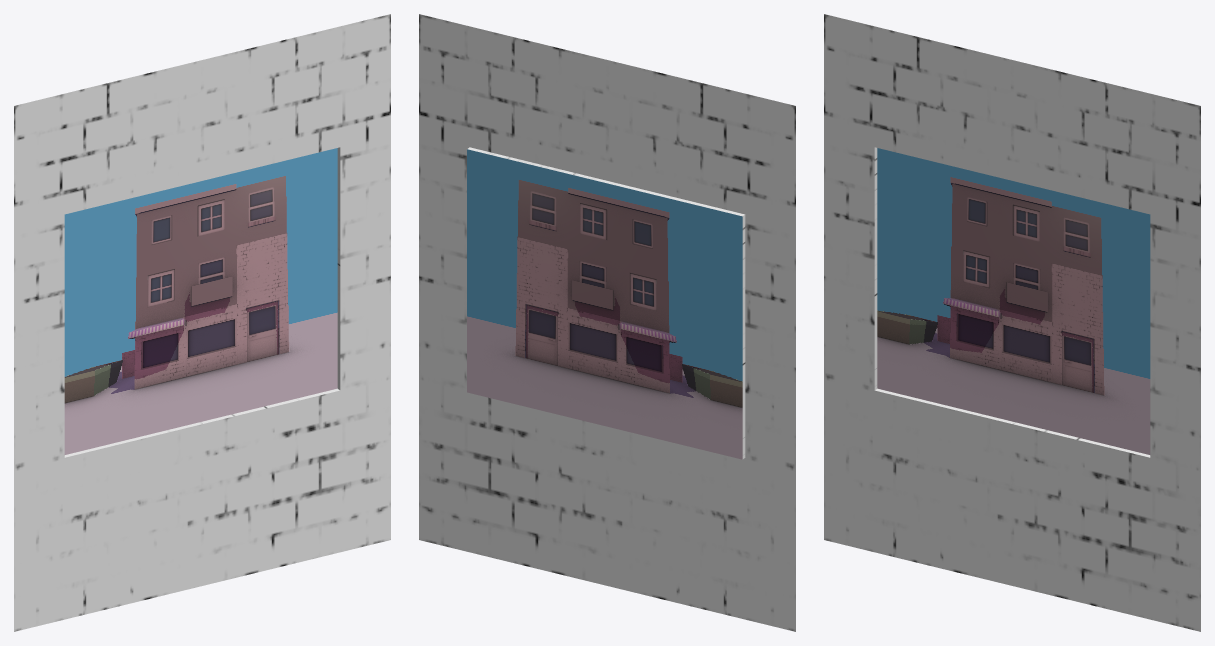
File: Window4.fbx
The picture shows the model from 3 angles, left to right: view 1: azimuth 30°, elevation 25°; view 2: azimuth 150°, elevation 25°; view 3: azimuth 330°, elevation 25°; orthographic projection.
Parts seen in each view (by area): view 1: Plane.006; view 2: Plane.006; view 3: Plane.006.
Boxes of the visible parts, x1=… form: Plane.006: x1=14, y1=14, x2=390, y2=631; Plane.006: x1=419, y1=14, x2=795, y2=631; Plane.006: x1=824, y1=14, x2=1200, y2=631.
Bounding box in the file's own units: 150 × 200 × 1.81.
